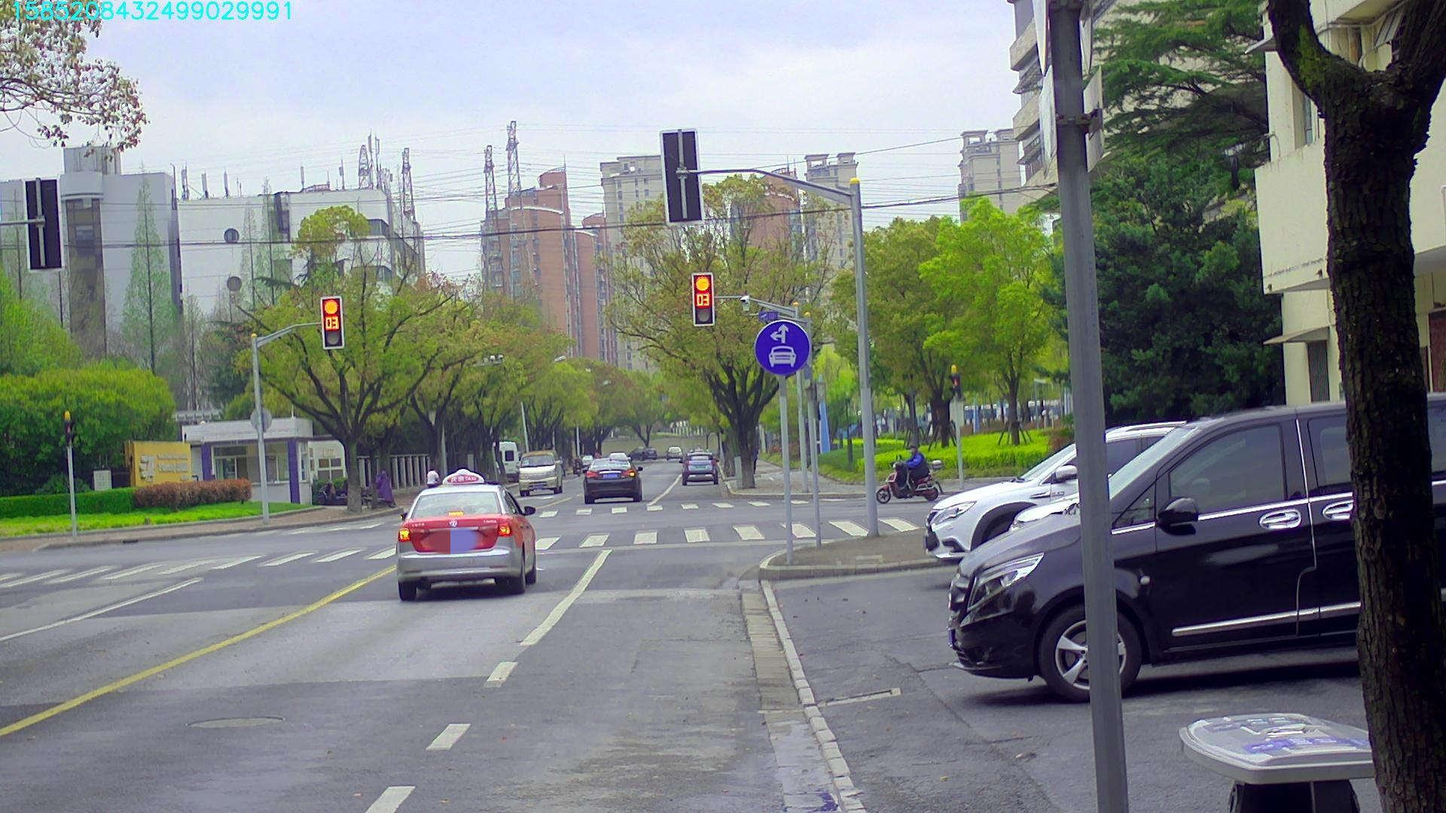red: (322, 298, 343, 349), (692, 273, 713, 324)
